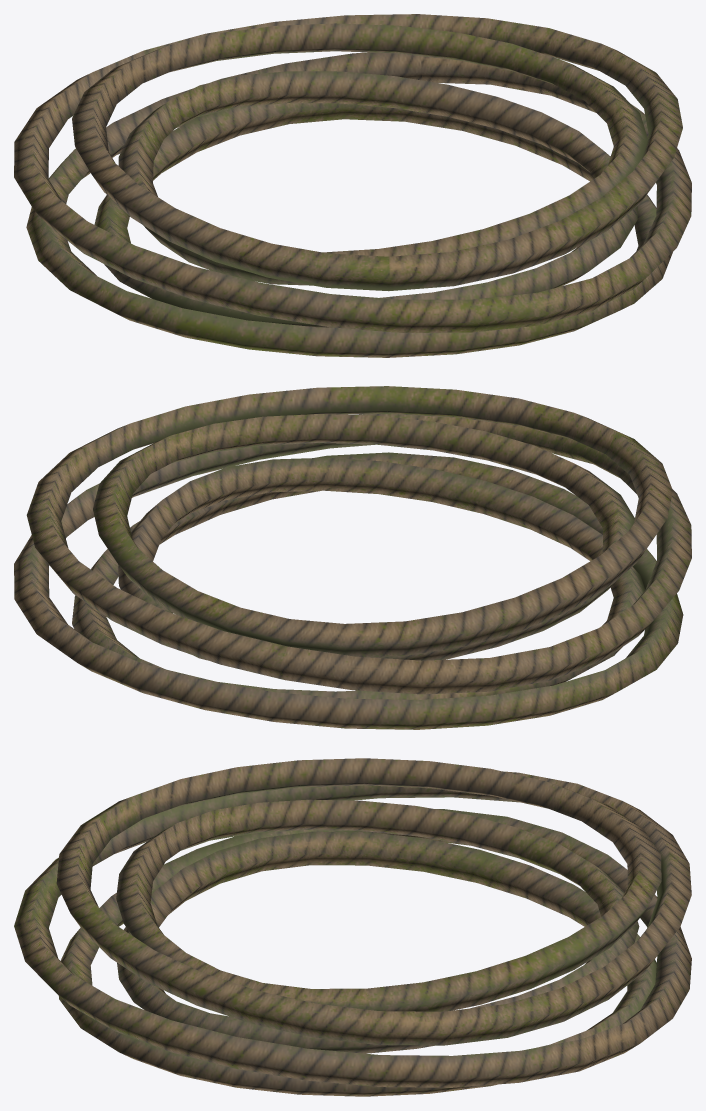
Rendered from SM_RopeS.fbx.
3 renders of one model, top to bottom at view 1: azimuth 30°, elevation 25°; view 2: azimuth 150°, elevation 25°; view 3: azimuth 270°, elevation 25°, orthographic.
Visible parts, largest first — view 1: SM_RopeS_LOD0; view 2: SM_RopeS_LOD0; view 3: SM_RopeS_LOD0.
Boxes of the visible parts, bbox=[...] form: SM_RopeS_LOD0: bbox=[14, 14, 691, 357]; SM_RopeS_LOD0: bbox=[14, 386, 691, 729]; SM_RopeS_LOD0: bbox=[14, 758, 691, 1096].
Bounding box in the file's own units: 42.08 × 42.44 × 7.92.
Materials: 1 (1 with a texture image).
